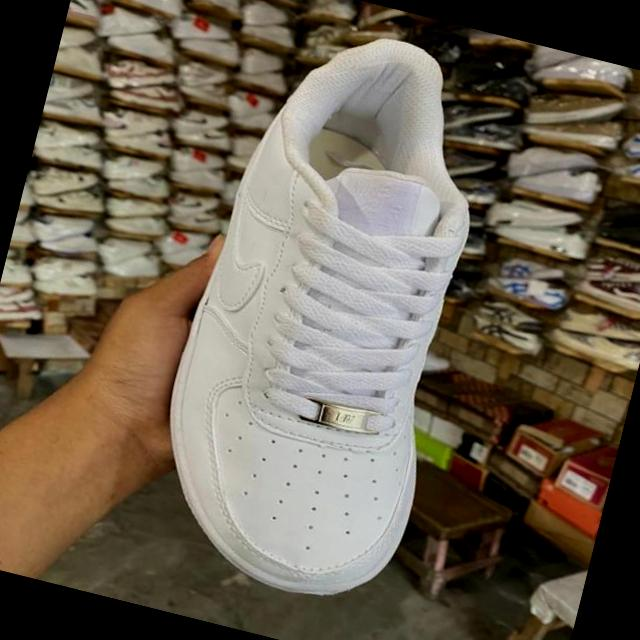nike_fake_airforce: (127, 5, 520, 616)
